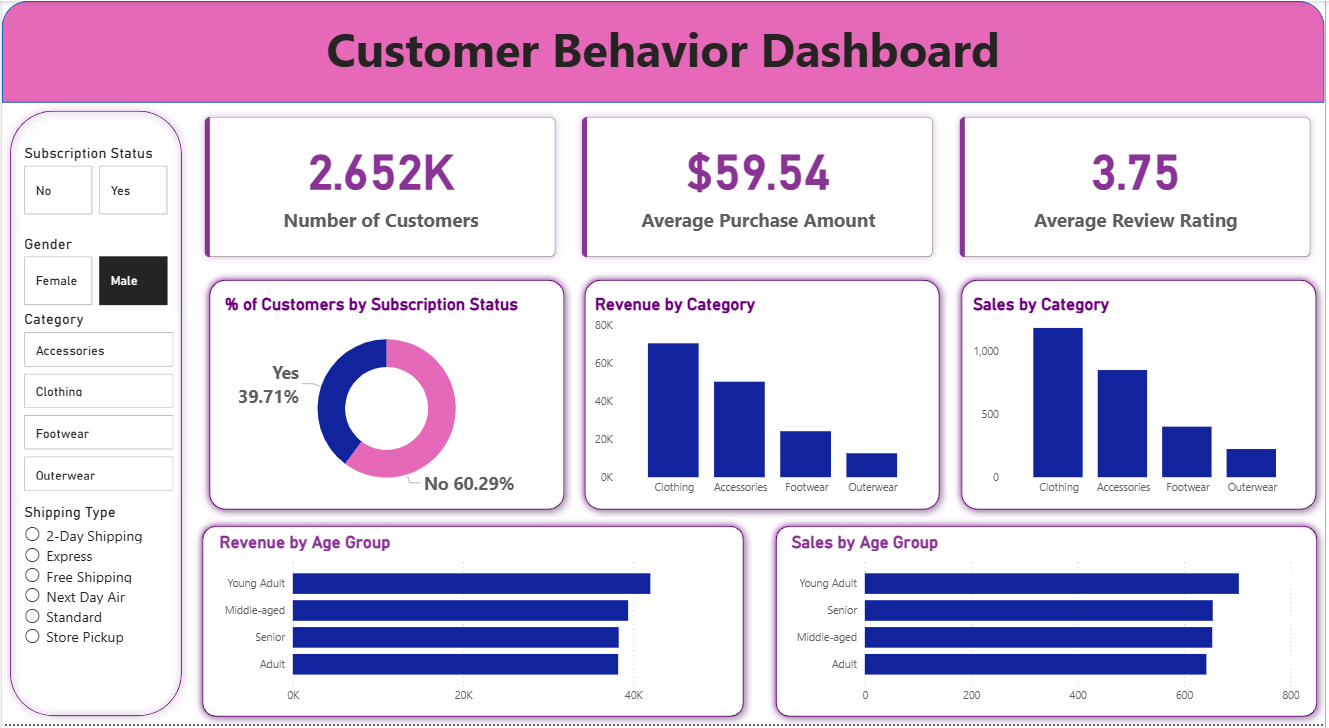

What the dashboard file says about the page in this screenshot:
{"tool":"powerbi","page":{"name":"Page 1","canvas":[1500,820],"ordinal":0},"visuals":[{"type":"cardVisual","fields":{"Data":["public customer.Number of Customers","public customer.Average Purchase Amount","public customer.Average Review Rating"]},"box":[212.9,115.3,1286.5,191.6],"z":2000},{"type":"shape","box":[218.3,585.6,631.7,234.2],"z":2500,"group":"g1"},{"type":"shape","box":[0,0,1499.4,115.3],"z":3000},{"type":"textbox","box":[0,12.4,1499.4,102.9],"z":4000},{"type":"shape","box":[225.4,307,420.5,278.6],"z":5000},{"type":"donutChart","title":"% of Customers by Subscription Status","fields":{"Category":["public customer.subscription_status"],"Y":["CountNonNull(public customer.customer_id)"]},"box":[248.4,331.8,376.2,237.8],"z":6000},{"type":"shape","box":[1078.9,307,420.5,278.6],"z":7000},{"type":"shape","box":[652.1,307,420.5,278.6],"z":8000},{"type":"clusteredColumnChart","title":"Revenue by Category","fields":{"Y":["Sum(public customer.purchase_amount)"],"Category":["public customer.category"]},"box":[667.2,331.8,385.1,237.8],"z":9000},{"type":"clusteredColumnChart","title":"Sales by Category","fields":{"Y":["CountNonNull(public customer.customer_id)"],"Category":["public customer.category"]},"box":[1096.6,331.8,385.1,237.8],"z":10000},{"type":"shape","box":[0,115.3,212.9,704.5],"z":11000},{"type":"advancedSlicerVisual","fields":{"Values":["public customer.subscription_status"]},"box":[19.5,161.5,173.9,85.2],"z":12000},{"type":"advancedSlicerVisual","fields":{"Values":["public customer.gender"]},"box":[19.5,264.4,173.9,85.2],"z":13000},{"type":"advancedSlicerVisual","fields":{"Values":["public customer.category"]},"box":[20.3,350.8,179.3,210.5],"z":14000},{"type":"listSlicer","fields":{"Values":["public customer.shipping_type"]},"box":[19.5,569.6,168.6,220],"z":15000},{"type":"shape","box":[867.7,585.6,631.7,234.2],"z":16000},{"type":"clusteredBarChart","title":"Sales by Age Group","fields":{"Y":["CountNonNull(public customer.customer_id)"],"Category":["public customer.age_group"]},"box":[890.8,601.5,585.6,204.1],"z":17000},{"type":"clusteredBarChart","title":"Revenue by Age Group","fields":{"Y":["Sum(public customer.purchase_amount)"],"Category":["public customer.age_group"]},"box":[241.4,601.6,585.6,204.1],"z":17500,"group":"g1"},{"type":"group","id":"g1","title":"Group 1","box":[218.3,585.6,631.7,234.2],"z":17501}]}

Visuals, with their boxes in screenshot pixels (x1, y1, x2, y2), scaled from the page's 1500x820 canvas onto the 1329x728 screenshot:
cardVisual - public customer.Number of Customers x public customer.Average Purchase Amount: 189, 102, 1328, 272
shape: 193, 520, 753, 727
shape: 0, 0, 1328, 102
textbox: 0, 11, 1328, 102
shape: 200, 273, 572, 520
"% of Customers by Subscription Status" donutChart: 220, 295, 553, 506
shape: 956, 273, 1328, 520
shape: 578, 273, 950, 520
"Revenue by Category" clusteredColumnChart: 591, 295, 932, 506
"Sales by Category" clusteredColumnChart: 972, 295, 1313, 506
shape: 0, 102, 189, 727
advancedSlicerVisual - public customer.subscription_status: 17, 143, 171, 219
advancedSlicerVisual - public customer.gender: 17, 235, 171, 310
advancedSlicerVisual - public customer.category: 18, 311, 177, 498
listSlicer - public customer.shipping_type: 17, 506, 167, 701
shape: 769, 520, 1328, 727
"Sales by Age Group" clusteredBarChart: 789, 534, 1308, 715
"Revenue by Age Group" clusteredBarChart: 214, 534, 733, 715
"Group 1" group: 193, 520, 753, 727
